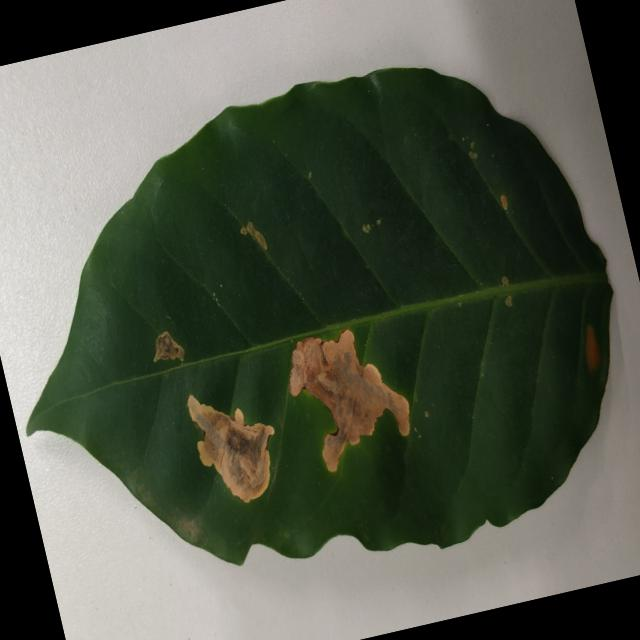PengorokDaunKopi: (289, 329, 409, 471), (187, 394, 274, 501), (154, 331, 184, 361), (246, 221, 267, 249), (500, 194, 507, 210), (505, 295, 512, 306), (502, 275, 509, 285)
